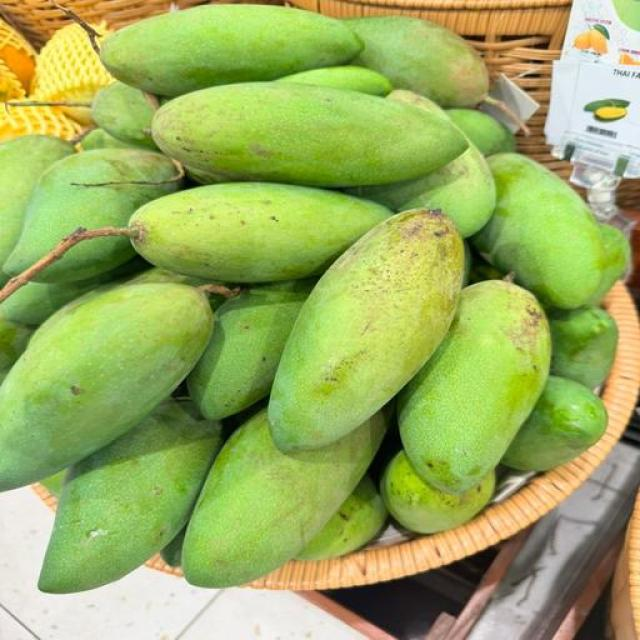organic: (0, 92, 483, 586), (269, 210, 463, 451), (0, 284, 212, 489), (183, 410, 386, 587), (39, 400, 221, 593), (153, 83, 467, 187), (398, 280, 551, 493), (130, 183, 391, 282), (100, 4, 362, 96), (4, 148, 178, 274), (474, 154, 604, 308), (188, 280, 313, 418), (355, 140, 496, 237), (0, 258, 208, 323), (345, 17, 488, 107), (37, 268, 218, 334), (0, 135, 73, 283), (502, 377, 607, 471), (0, 259, 144, 326), (380, 452, 494, 533), (297, 475, 387, 559), (60, 258, 207, 309), (0, 274, 109, 326), (549, 307, 618, 388), (92, 82, 155, 148), (588, 223, 631, 304), (279, 67, 392, 96), (447, 109, 516, 156), (368, 399, 401, 486), (388, 89, 451, 123), (0, 308, 32, 371), (223, 399, 267, 437), (127, 268, 211, 287), (180, 163, 253, 184), (127, 268, 207, 286), (80, 129, 137, 151), (469, 253, 504, 283), (160, 527, 186, 567), (613, 0, 639, 31), (39, 469, 67, 497), (184, 167, 228, 184), (584, 99, 629, 112), (594, 108, 627, 122), (463, 242, 473, 287), (593, 24, 609, 39), (0, 372, 7, 384)
